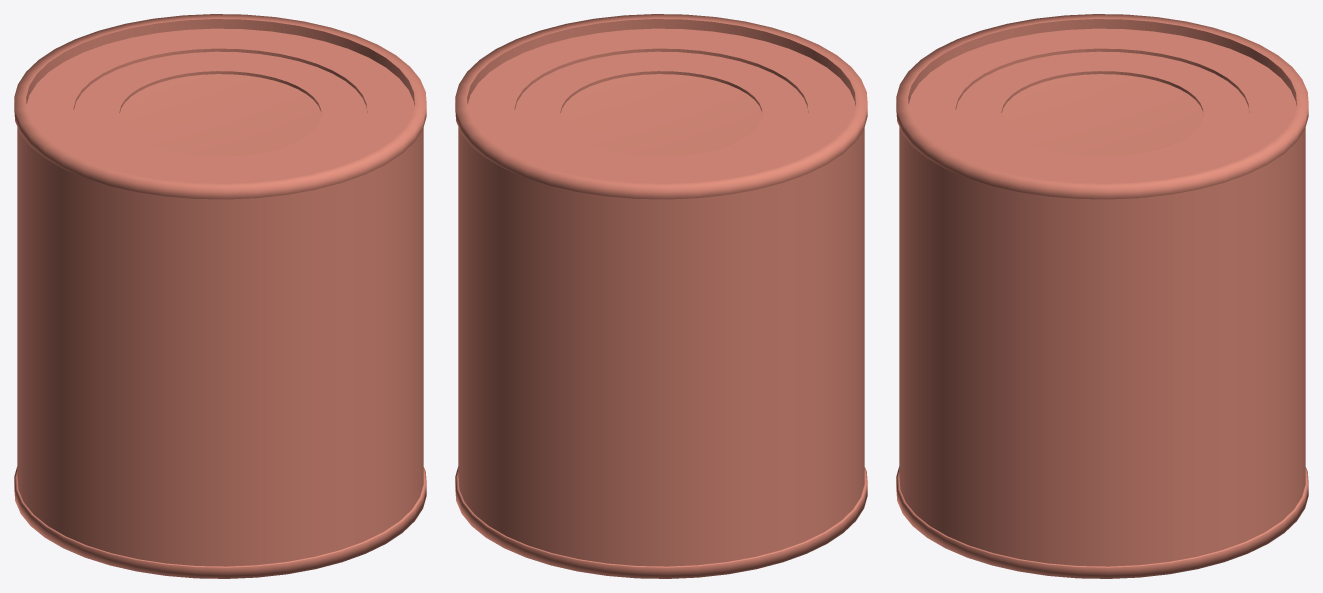
The model's file is generic_tomatoes.gltf.
3 renders of one model, left to right at view 1: azimuth 30°, elevation 25°; view 2: azimuth 150°, elevation 25°; view 3: azimuth 270°, elevation 25°, orthographic.
Visible parts, largest first — view 1: long_life_food_tomatoes; view 2: long_life_food_tomatoes; view 3: long_life_food_tomatoes.
Part boxes in pixels (bbox=[...]): long_life_food_tomatoes: bbox=[14, 14, 426, 578]; long_life_food_tomatoes: bbox=[455, 14, 867, 578]; long_life_food_tomatoes: bbox=[896, 14, 1308, 578].
Size of the model in its own units: 0.1136 by 0.1186 by 0.1136.
